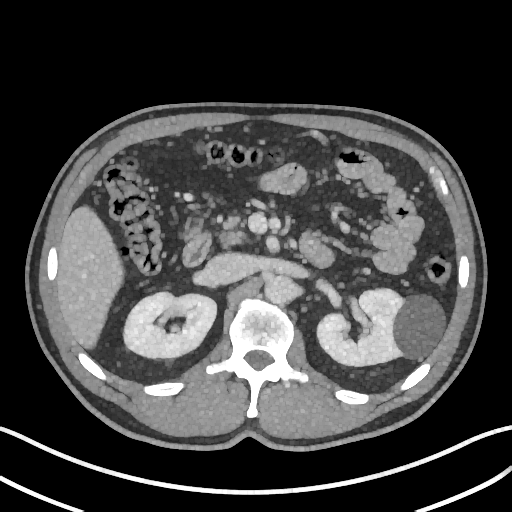Lesion: (388, 291, 449, 363)
